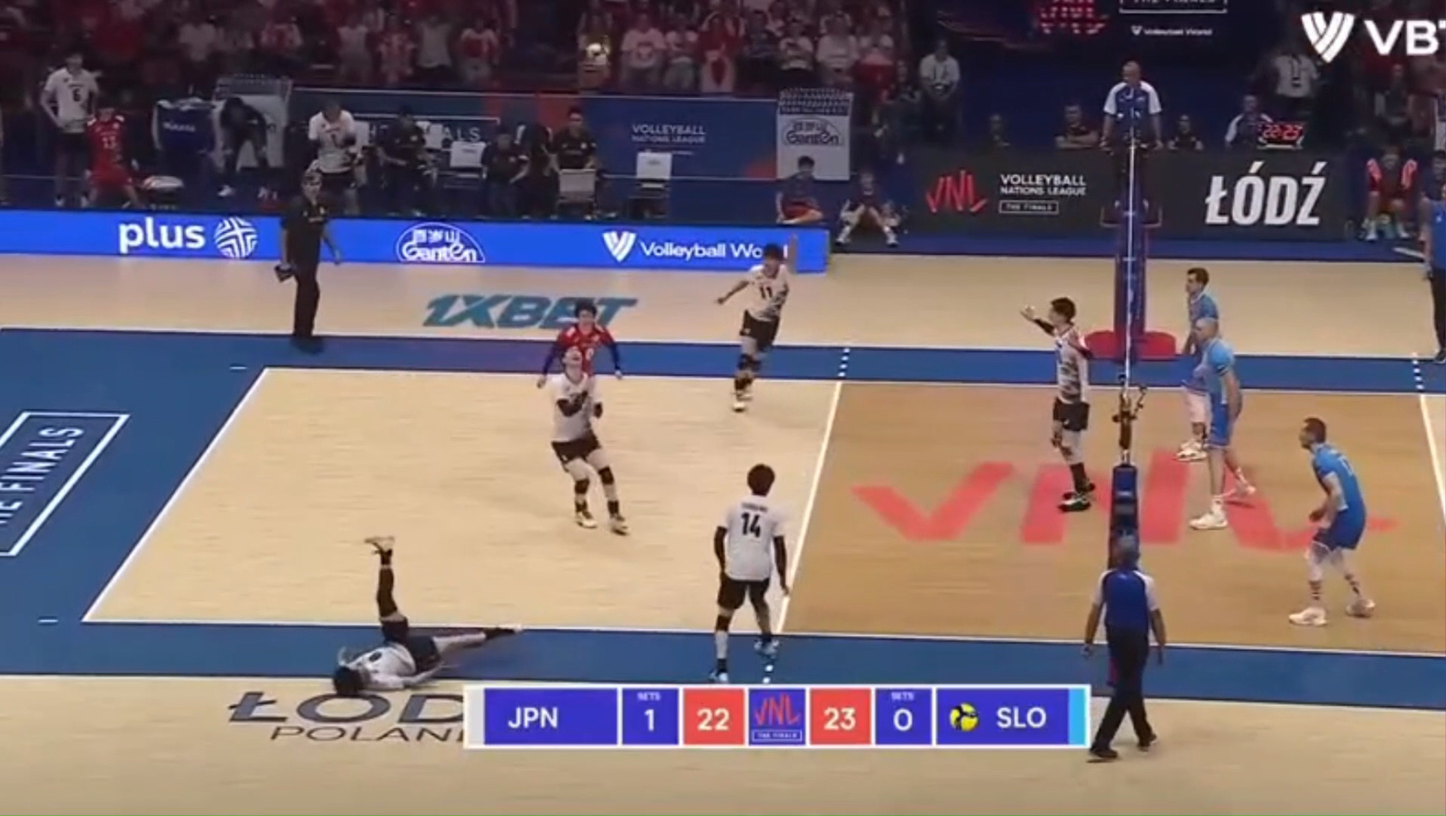ball: (586, 43, 606, 59)
player: (1287, 417, 1373, 626), (1188, 317, 1253, 530), (1176, 267, 1218, 462)
player 1: (332, 536, 519, 697), (713, 464, 789, 680), (1021, 298, 1094, 512), (544, 349, 626, 533), (717, 244, 789, 412), (544, 299, 621, 378)
referee: (1083, 543, 1166, 760), (276, 171, 340, 351), (1100, 61, 1161, 228), (1421, 198, 1445, 364)
